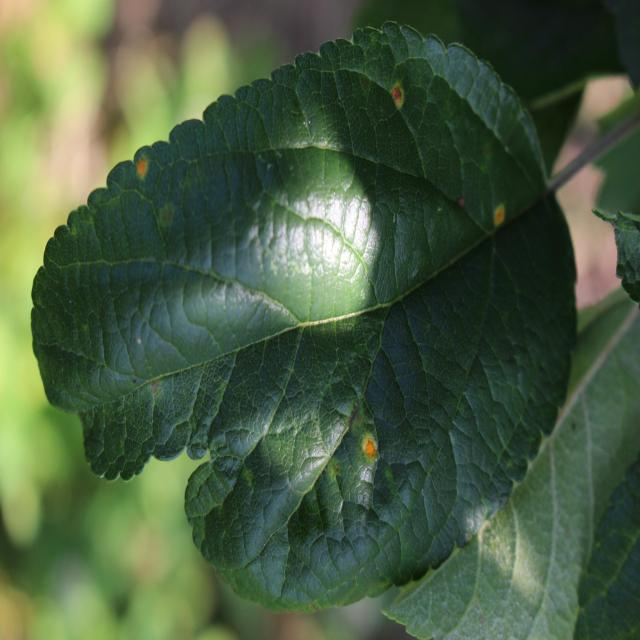rust: (28, 23, 579, 615)
